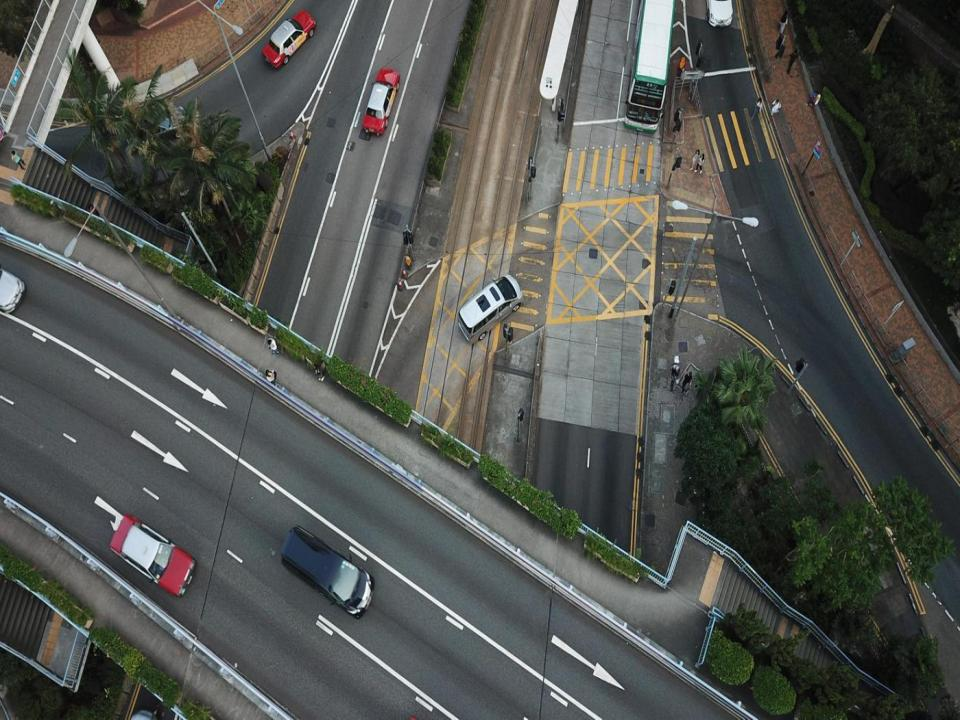bus: (625, 2, 673, 134)
car: (280, 526, 374, 620), (110, 514, 198, 596), (261, 9, 315, 68), (361, 68, 399, 138), (128, 105, 189, 147), (706, 1, 733, 26)
van: (456, 273, 523, 344)
